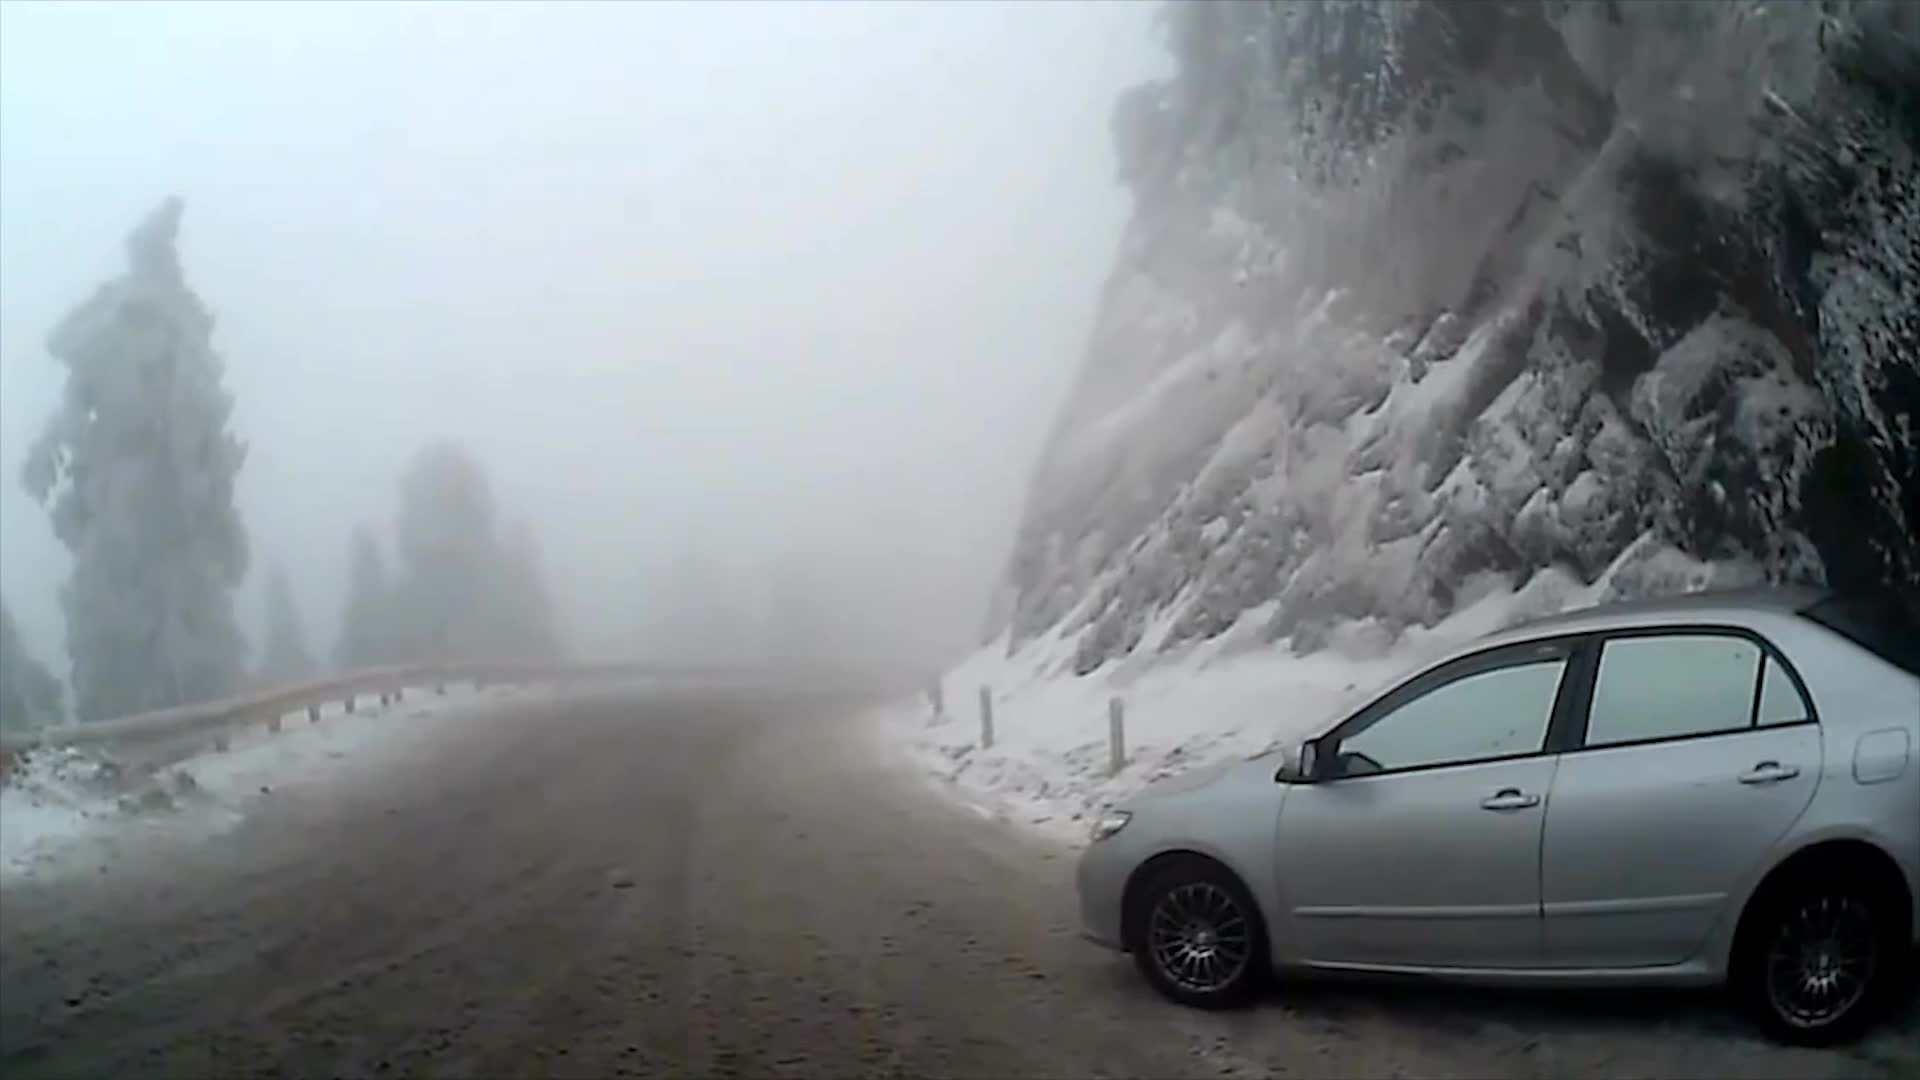vehicle: (1072, 583, 1920, 1051)
